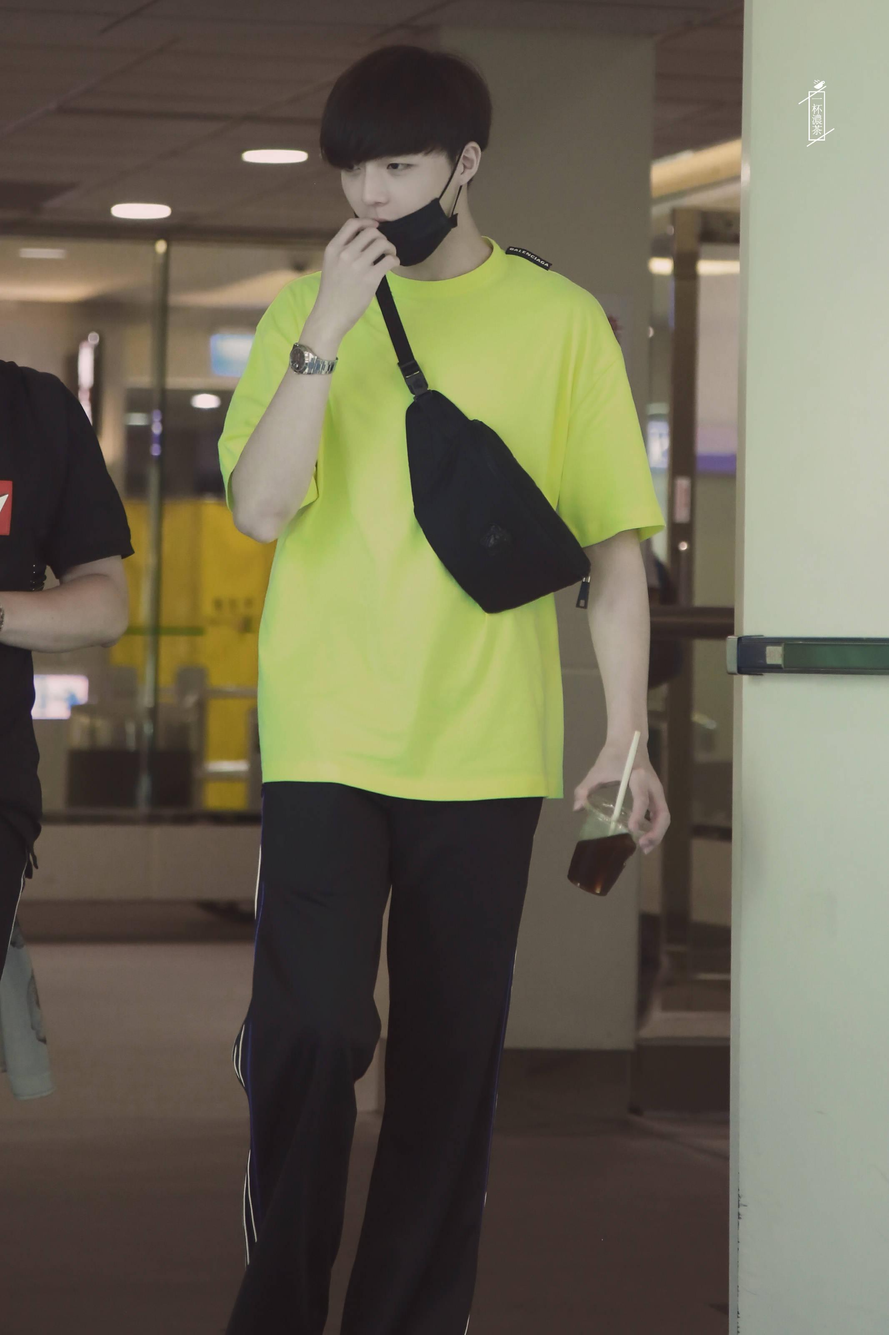WRONG: (338, 133, 456, 269)
